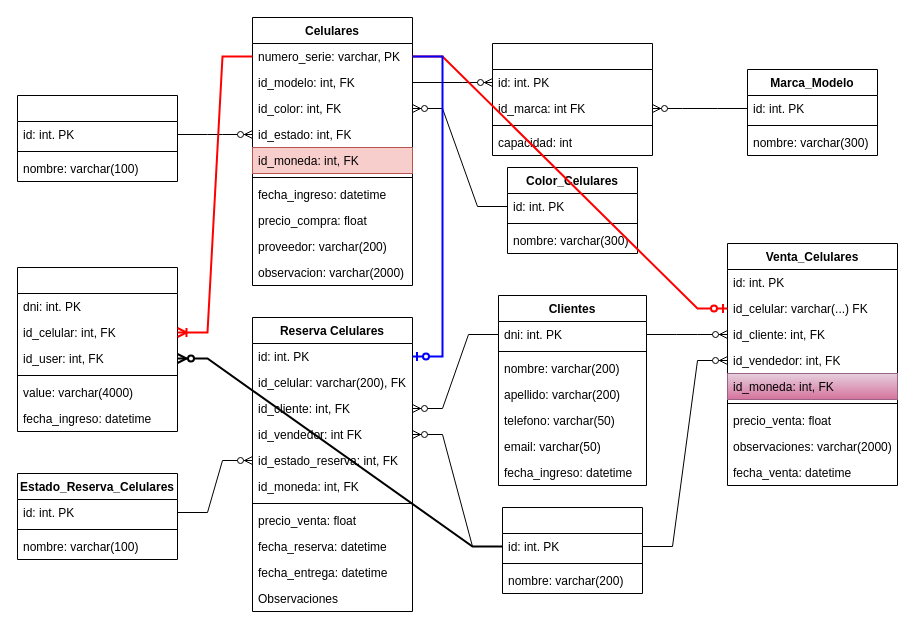
Image size: 915x632. Some labels were removed from this diagram. Here are the shapes that lost their labels. From the top down, the box of each, then its label:
(492, 42, 652, 156): Modelo_Celulares
(16, 94, 178, 182): Estado_Celulares
(16, 266, 178, 432): Logs_Celulares
(502, 506, 642, 594): @Users_Django
